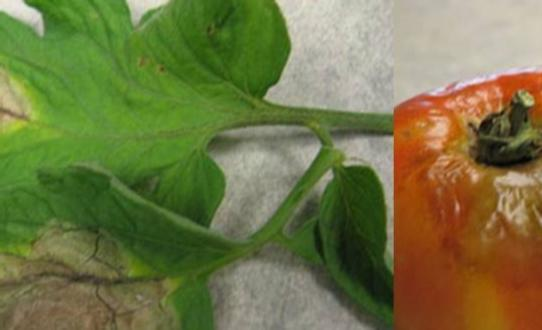Tomato leaf late blight: (0, 3, 328, 215), (0, 163, 263, 330)
